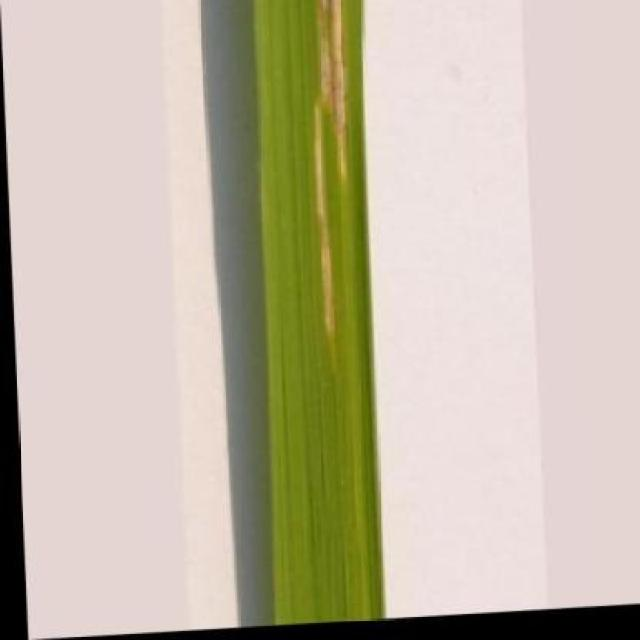Brown_Spot: (238, 0, 392, 629)
